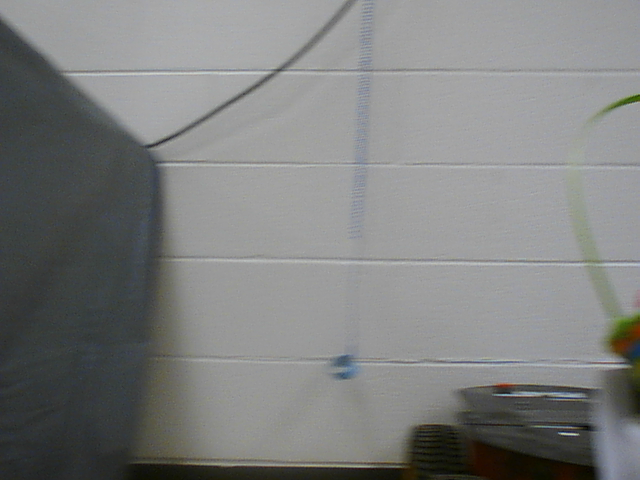bunny: (556, 87, 640, 395)
